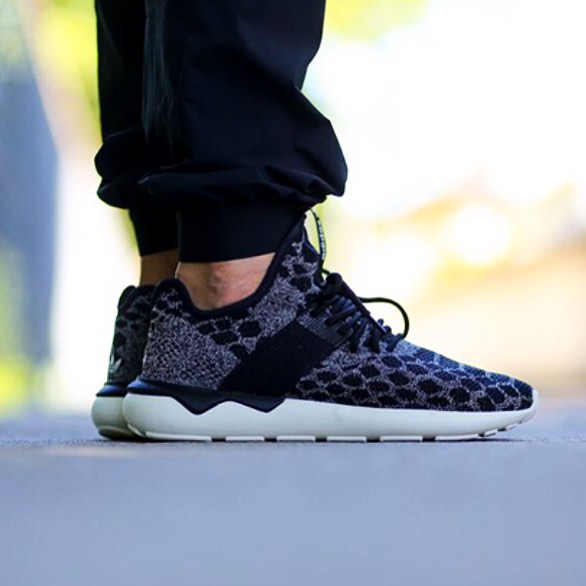sneaker: (104, 208, 553, 458), (85, 207, 188, 443)
